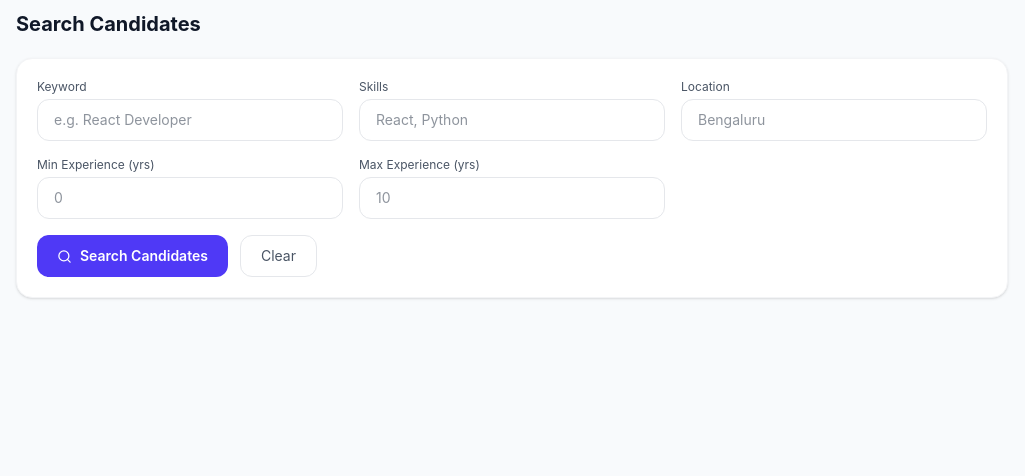
Scenario: CandidateSearch › loads and shows candidates after search
What coordinates should you click on to do the following:
click the button "Search Candidates"
I would click on:
 (132, 256)
Its box is [37,235,228,277].
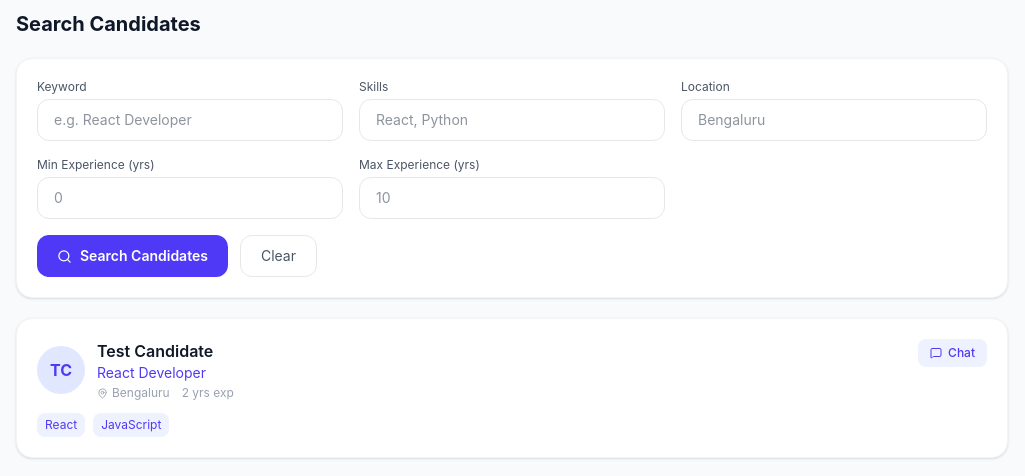
Expected: the text "Test Candidate" is shown, [97,341,213,361]
